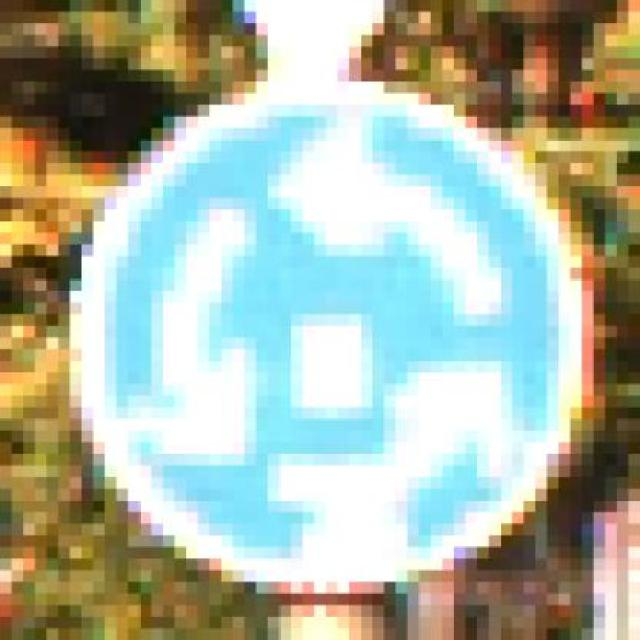Round-About: (47, 34, 628, 628)
